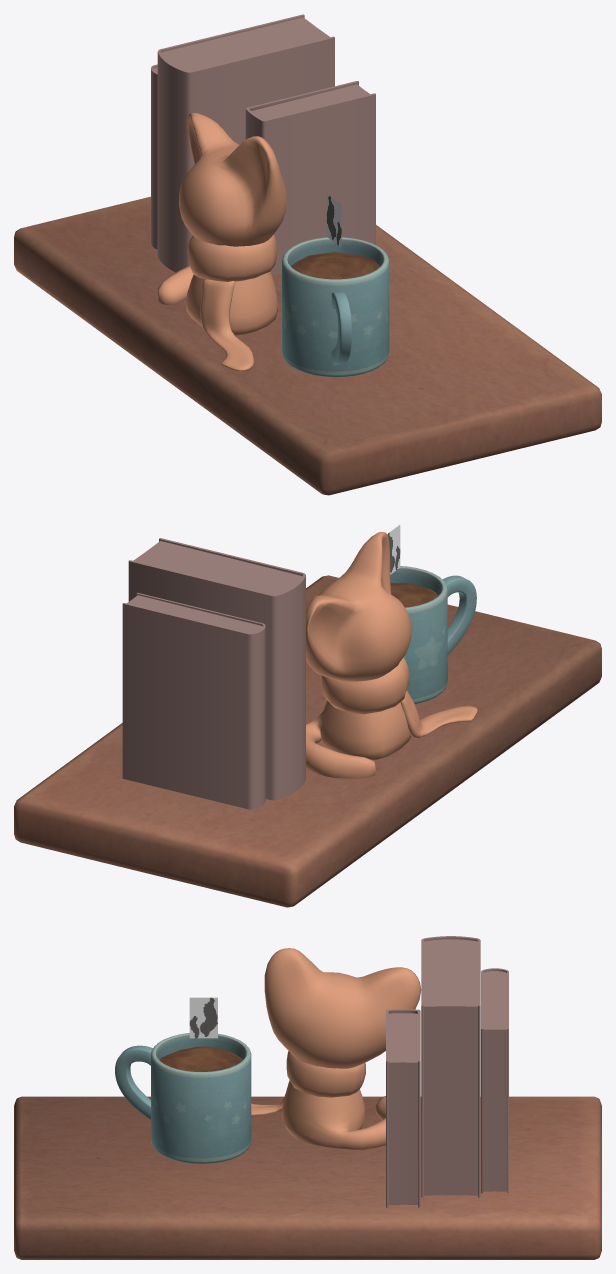
3 views of the same model, one above another, from view 1: azimuth 30°, elevation 25°; view 2: azimuth 150°, elevation 25°; view 3: azimuth 270°, elevation 25° (orthographic). The views are drawn at different scales.
Visible parts, largest first — view 1: shelf, book1, book2, cat, cup, scarf1, scarf2, book3, Cube.004, steam; view 2: shelf, book3, book1, cat, cup, scarf1, scarf2, Cube.004; view 3: shelf, cat, book1, cup, book2, book3, scarf1, Cube.004, steam.
Boxes of the visible parts, bbox=[...] form: shelf: bbox=[14, 196, 601, 495]; book1: bbox=[157, 14, 334, 272]; book2: bbox=[245, 81, 375, 275]; cat: bbox=[157, 113, 286, 335]; cup: bbox=[281, 237, 389, 377]; scarf1: bbox=[188, 234, 276, 281]; scarf2: bbox=[200, 279, 253, 371]; book3: bbox=[151, 64, 157, 249]; Cube.004: bbox=[331, 291, 352, 365]; steam: bbox=[326, 194, 341, 247]; shelf: bbox=[14, 575, 601, 907]; book3: bbox=[122, 592, 265, 809]; book1: bbox=[128, 538, 305, 800]; cat: bbox=[306, 532, 411, 778]; cup: bbox=[390, 566, 447, 703]; scarf1: bbox=[321, 657, 409, 714]; scarf2: bbox=[400, 690, 477, 738]; Cube.004: bbox=[443, 575, 476, 655]; shelf: bbox=[14, 1096, 601, 1259]; cat: bbox=[264, 948, 421, 1149]; book1: bbox=[421, 936, 480, 1197]; cup: bbox=[150, 1033, 251, 1163]; book2: bbox=[386, 1009, 420, 1207]; book3: bbox=[481, 968, 508, 1193]; scarf1: bbox=[286, 1051, 365, 1097]; Cube.004: bbox=[115, 1045, 152, 1119]; steam: bbox=[189, 997, 217, 1038].
Bounding box in the file's own units: 499 × 419 × 958.
